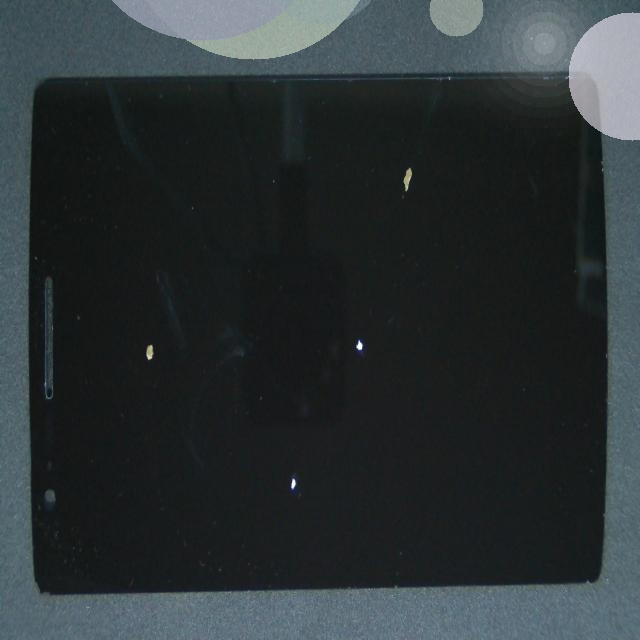stain: (149, 170, 538, 541), (115, 241, 432, 640), (213, 45, 604, 239), (34, 189, 222, 566)
